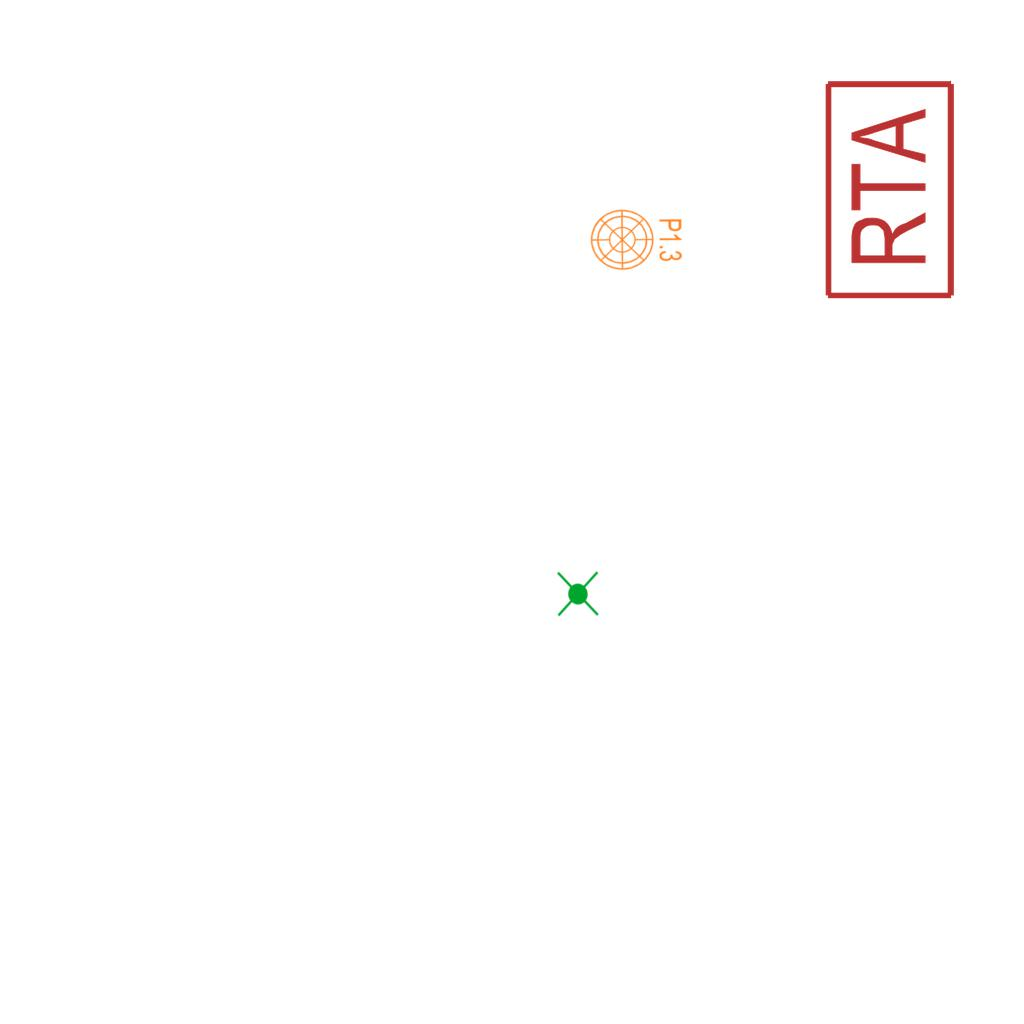Aufbaurundleuchte_LED_Treppenhaus: (589, 208, 691, 277)
Notlichtbaustein_in_Allgemeinbeleuchtug_engebaut_Einbau_(1UG_und_2UG_Aufbauvaria: (553, 569, 604, 619)
Ruf-und_Abstelltaster: (821, 78, 959, 306)
